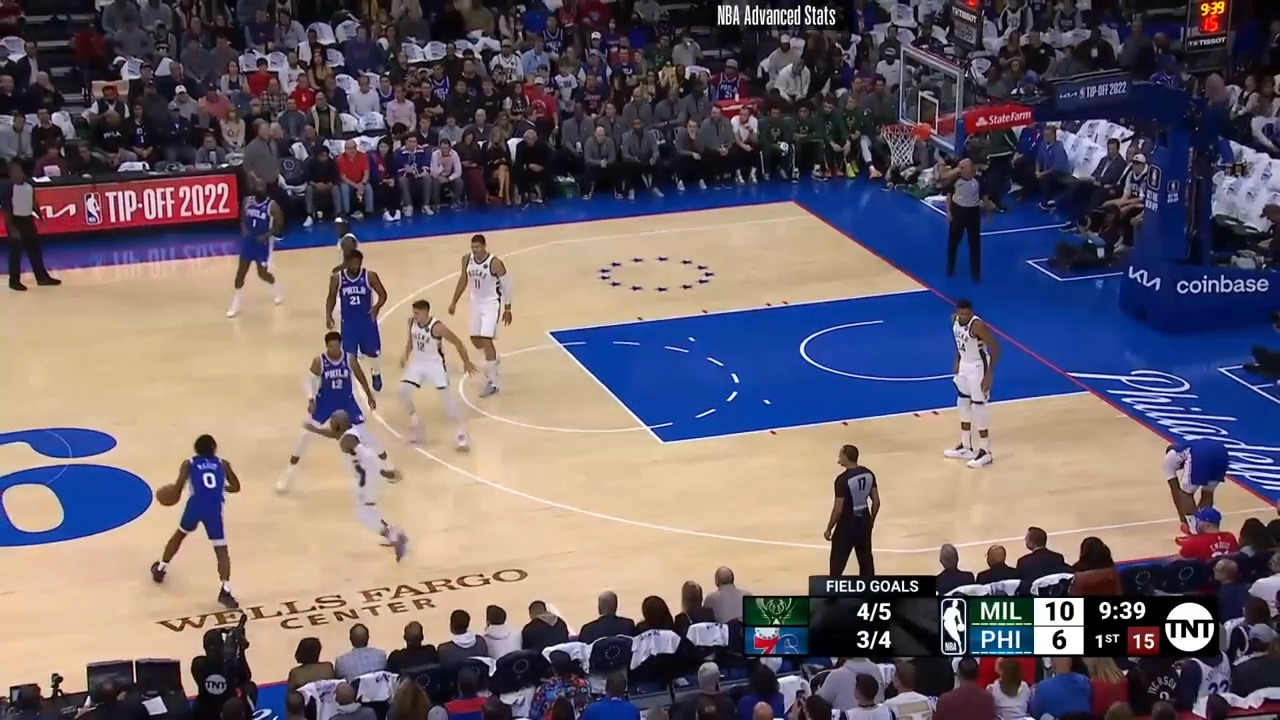net: (876, 119, 938, 170)
player: (273, 328, 399, 494), (145, 434, 243, 613), (328, 403, 418, 564), (392, 300, 481, 460), (441, 234, 513, 404), (328, 243, 396, 402), (943, 298, 1001, 472), (1147, 429, 1238, 539), (221, 172, 287, 320)
referee: (819, 441, 884, 577), (0, 160, 58, 302), (941, 157, 997, 288)
